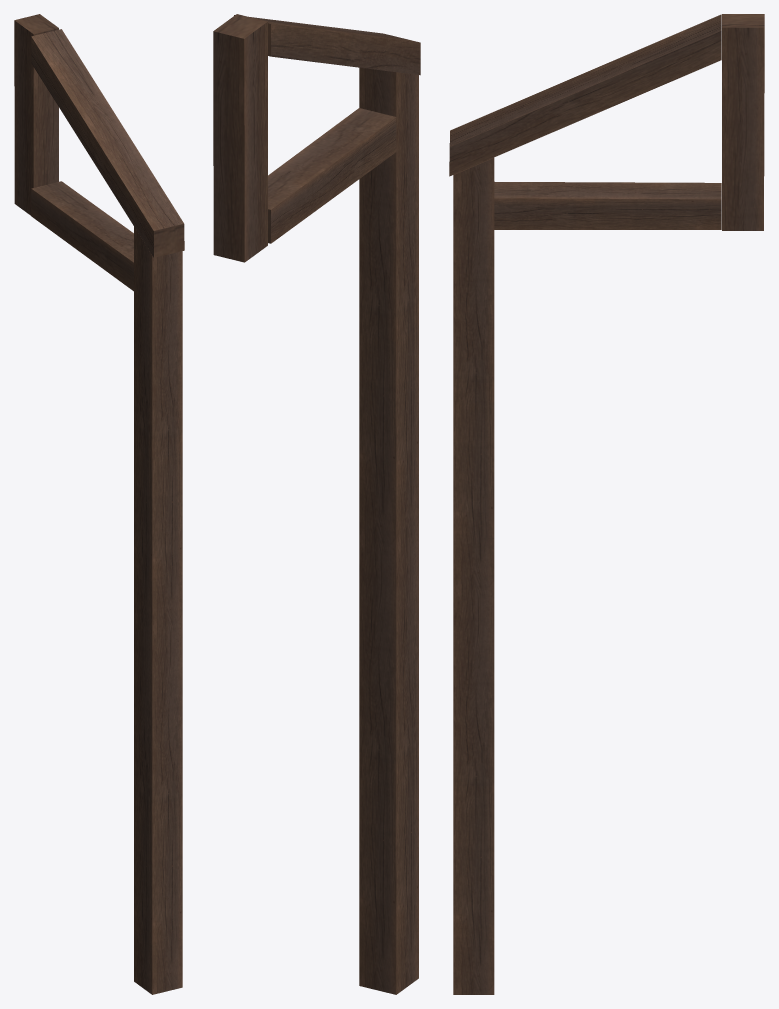
The model's file is yane_frame_1t_0f_3.fbx.
3 renders of one model, left to right at view 1: azimuth 30°, elevation 25°; view 2: azimuth 150°, elevation 25°; view 3: azimuth 270°, elevation 25°, orthographic. The views are drawn at different scales.
Parts seen in each view (by area): view 1: yane_frame_1t_0f_3; view 2: yane_frame_1t_0f_3; view 3: yane_frame_1t_0f_3.
Boxes of the visible parts, x1,y1,x2,y2 form: yane_frame_1t_0f_3: (14,14,184,994); yane_frame_1t_0f_3: (213,14,420,994); yane_frame_1t_0f_3: (449,14,764,994).
Size of the model in its own units: 15.81 by 433 by 128.
